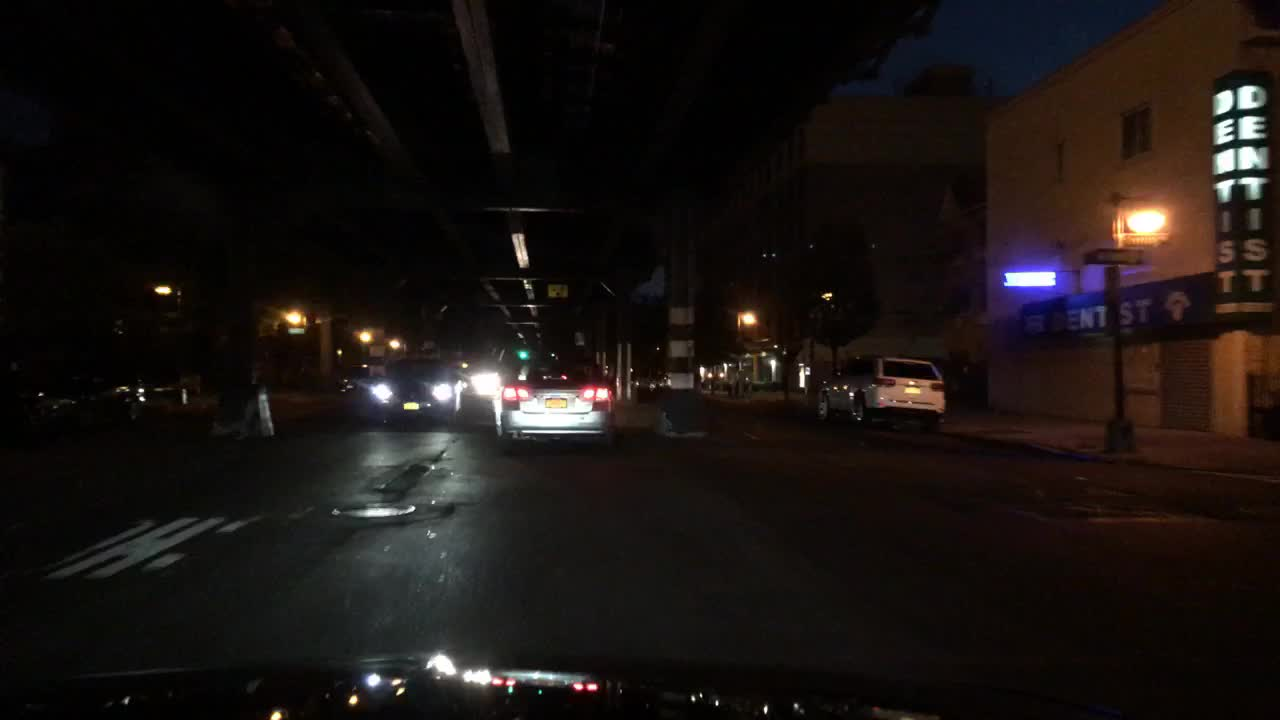car: (11, 321, 145, 426), (498, 345, 619, 449), (812, 351, 947, 435), (359, 355, 469, 434), (139, 353, 204, 413), (631, 367, 671, 396), (468, 368, 505, 396), (704, 365, 733, 387)
traffic light: (512, 344, 531, 364)
traffic sign: (1083, 245, 1143, 269), (543, 282, 570, 300)
